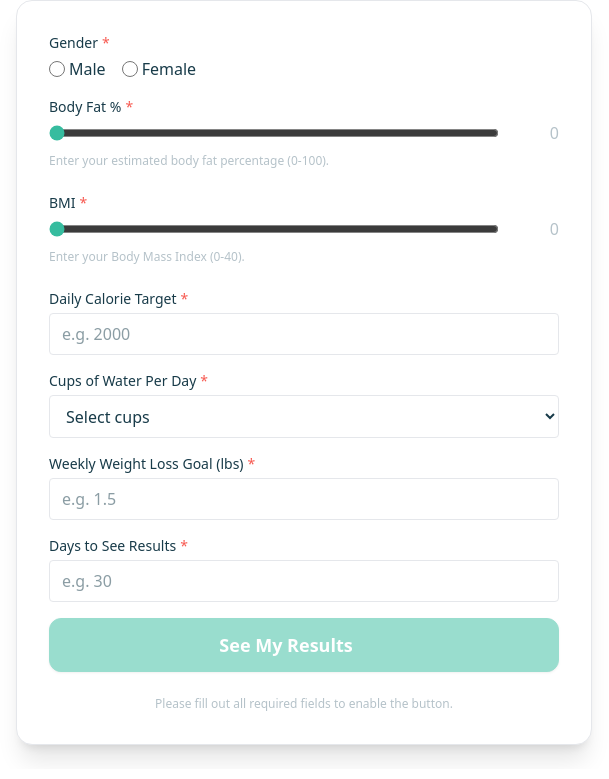
Test: Form Component › Form Validation › should show success message when form is complete
Note: Fill all fields
Click the radio button labelled "Female" at (130, 69), box [122, 61, 138, 77]
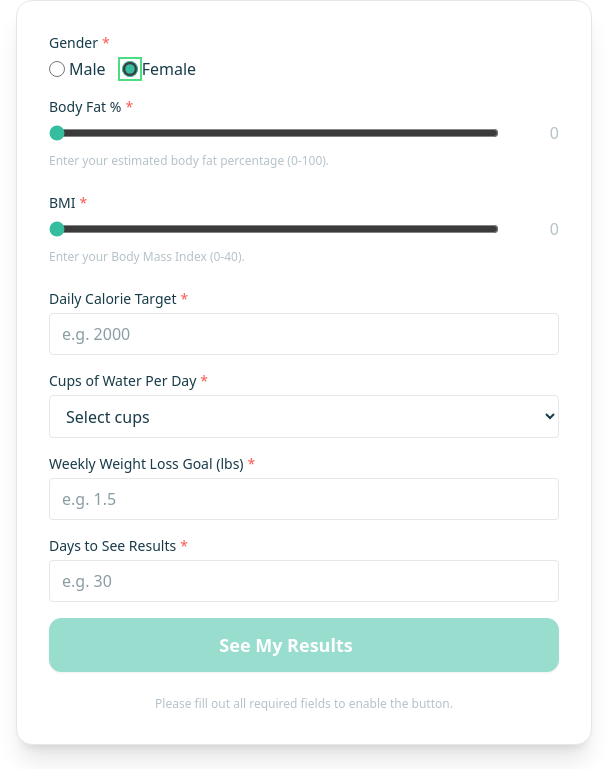
Set the slider labelled "Body Fat %*" to "30" at (187, 133), box [49, 125, 499, 141]
Set the slider labelled "BMI*" to "30" at (382, 229), box [49, 221, 499, 237]
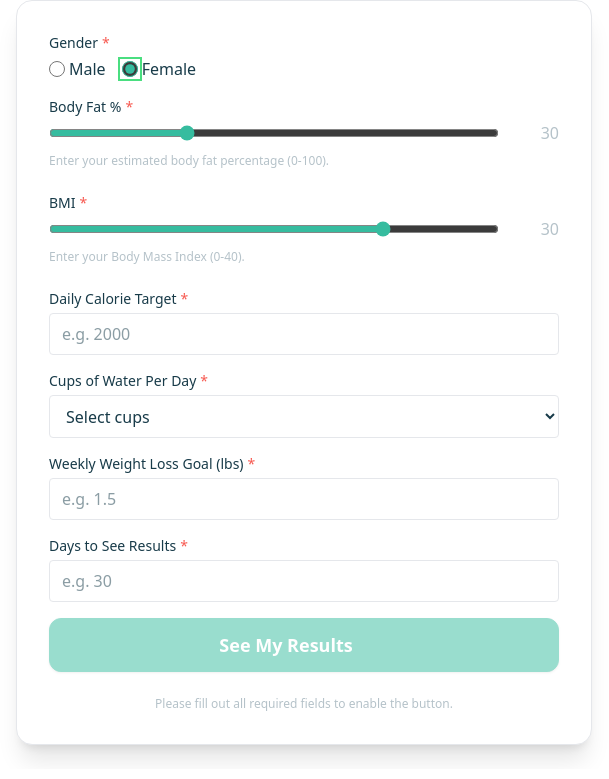
Type "1400" into the number field labelled "Daily Calorie Target*" at (304, 334), box [49, 313, 559, 355]
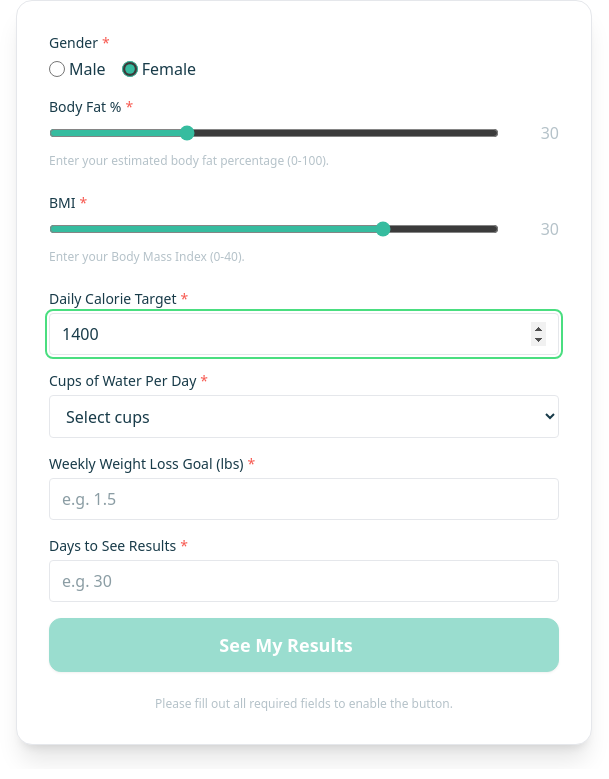
Select "6" in the dropdown labelled "Cups of Water Per Day*" at (304, 416), box [49, 395, 559, 438]
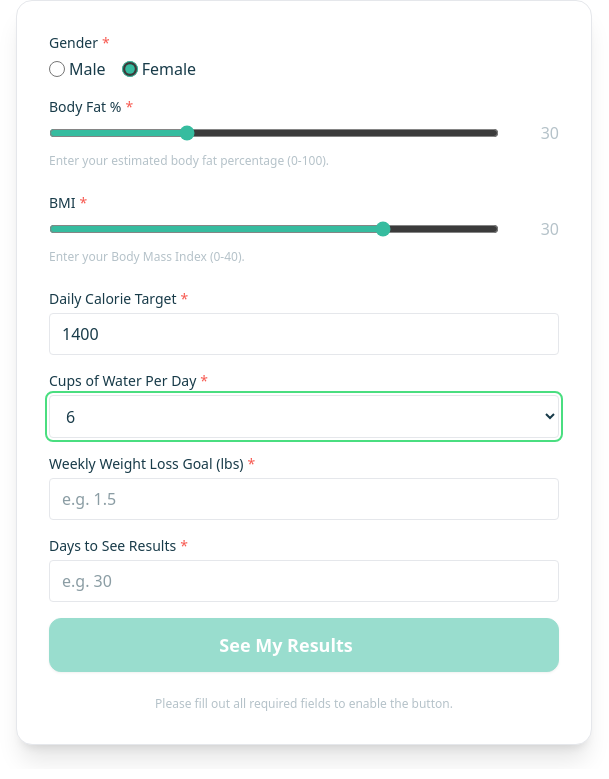
Type "15" into the number field labelled "Weekly Weight Loss Goal (lbs)*" at (304, 499), box [49, 478, 559, 520]
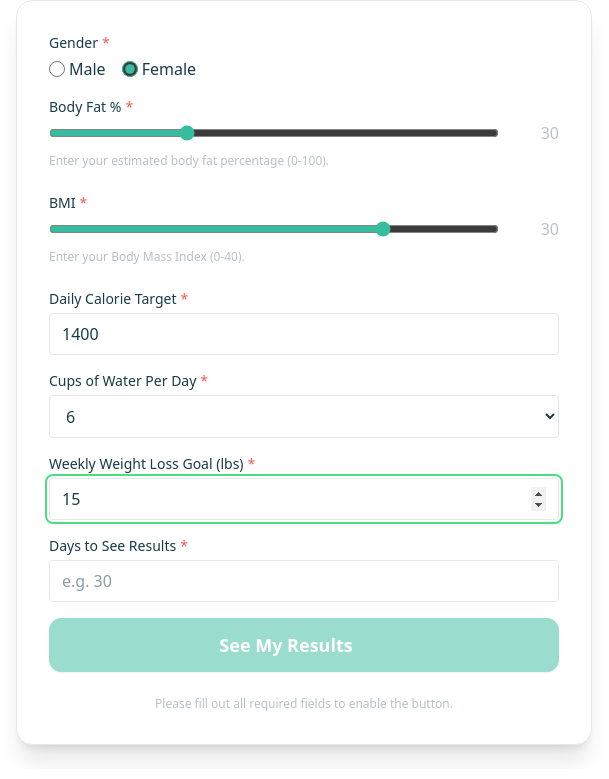
Type "60" into the number field labelled "Days to See Results*" at (304, 581), box [49, 560, 559, 602]
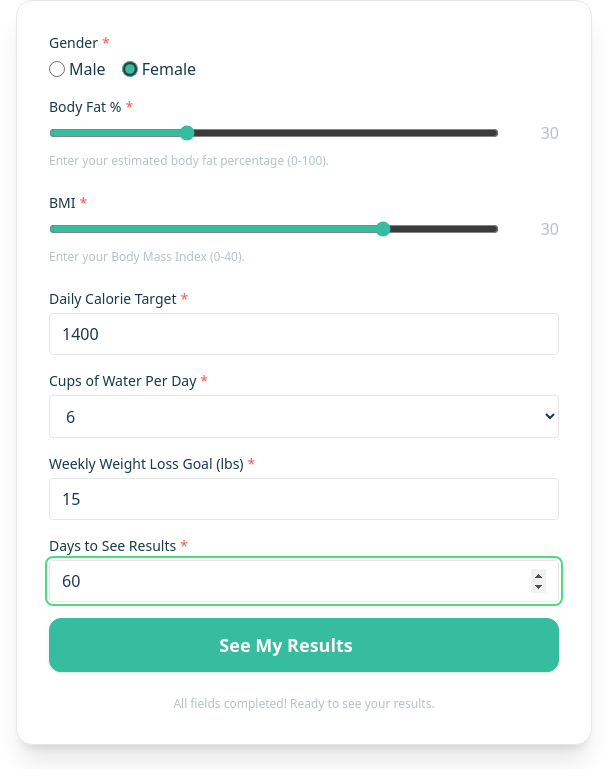
expect the text "All fields completed! Ready to see your results." is shown: met, box [173, 695, 435, 712]
